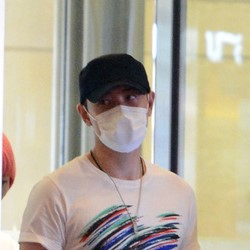mask: (87, 104, 151, 156)
